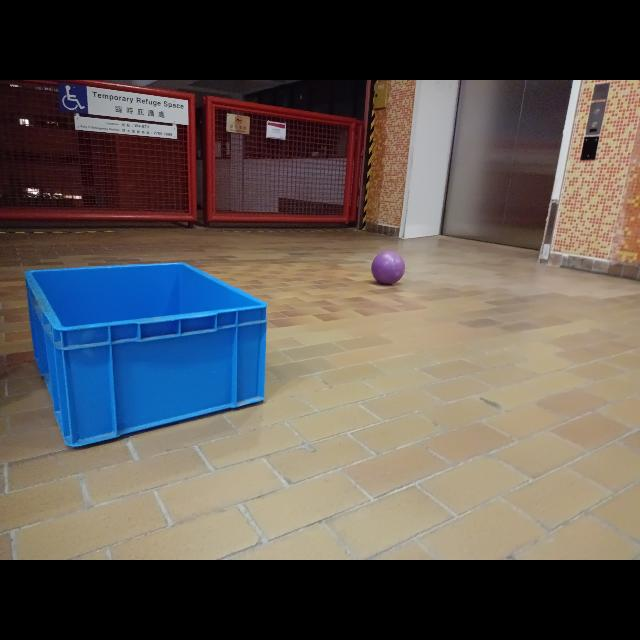P: (371, 251, 405, 285)
